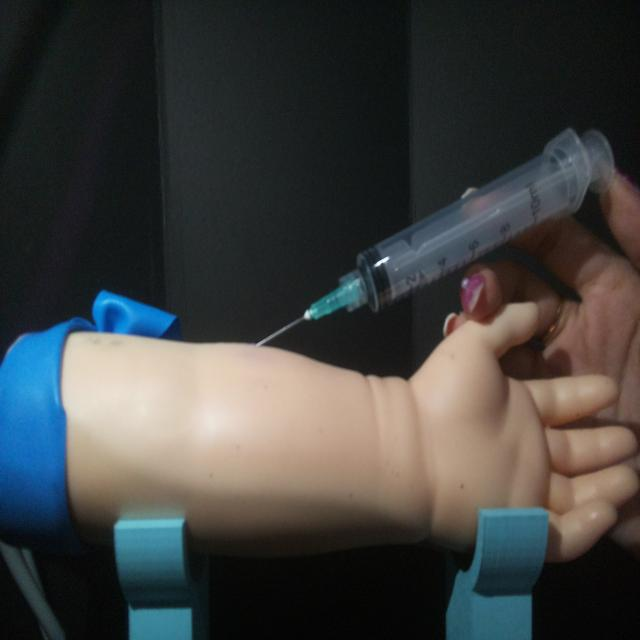28deg: (249, 120, 619, 351)
